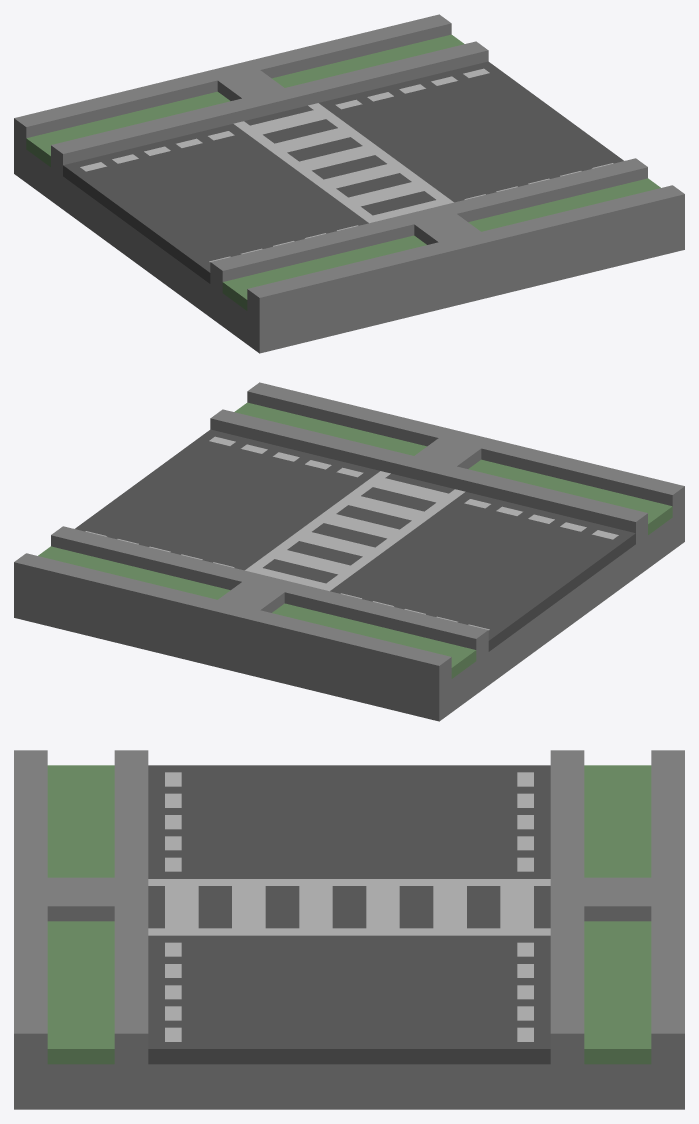
Rendered from finish.vox-0-RoadHor.vox.obj.
3 views of the same model, one above another, from view 1: azimuth 30°, elevation 25°; view 2: azimuth 150°, elevation 25°; view 3: azimuth 270°, elevation 25° (orthographic). The views are drawn at different scales.
Visible parts, largest first — view 1: RoadHor; view 2: RoadHor; view 3: RoadHor.
Part boxes in pixels (x1,y1,x2,y2): RoadHor: [14, 14, 684, 353]; RoadHor: [14, 382, 684, 721]; RoadHor: [14, 750, 684, 1109].
Size of the model in its own units: 4 by 0.5 by 4.
1 material, 1 textured.
